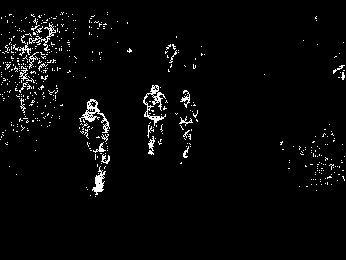person: (79, 98, 116, 198), (136, 82, 168, 157), (177, 88, 207, 160)
